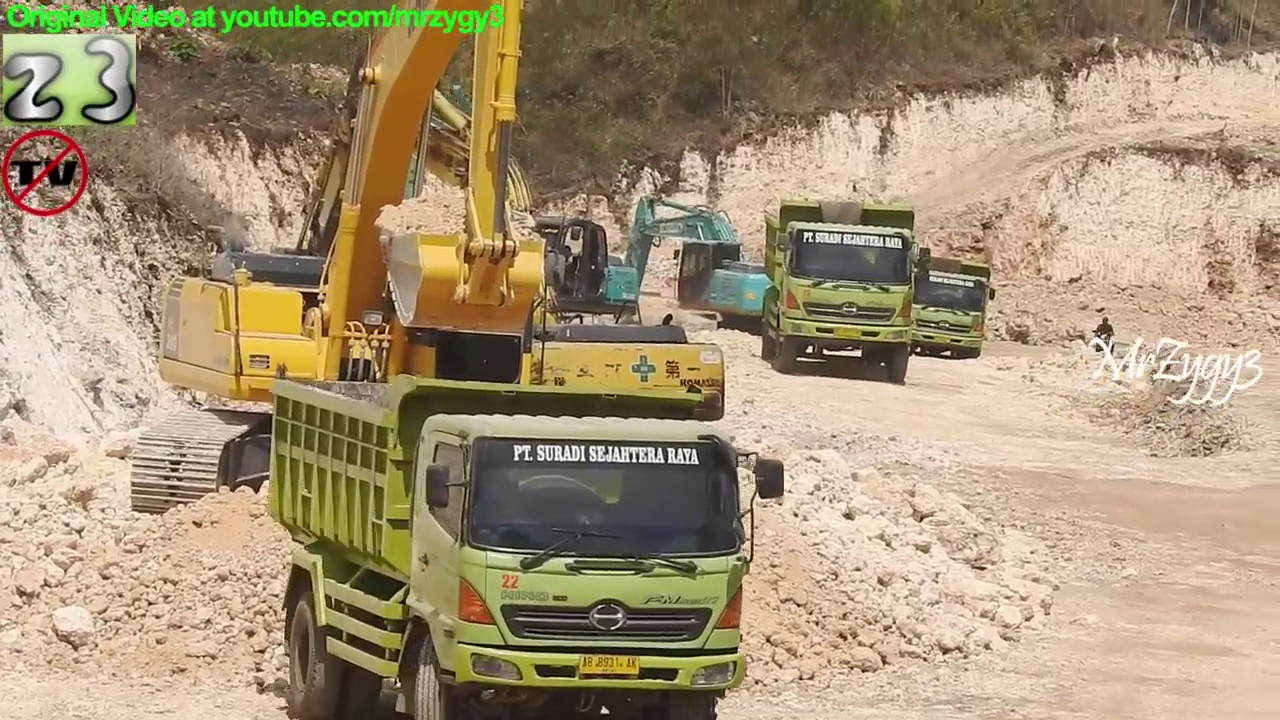excavator: (119, 1, 596, 526), (217, 41, 741, 486), (320, 19, 653, 354), (578, 188, 813, 344)
truck: (262, 369, 790, 720), (758, 196, 934, 386), (881, 244, 1000, 364)
